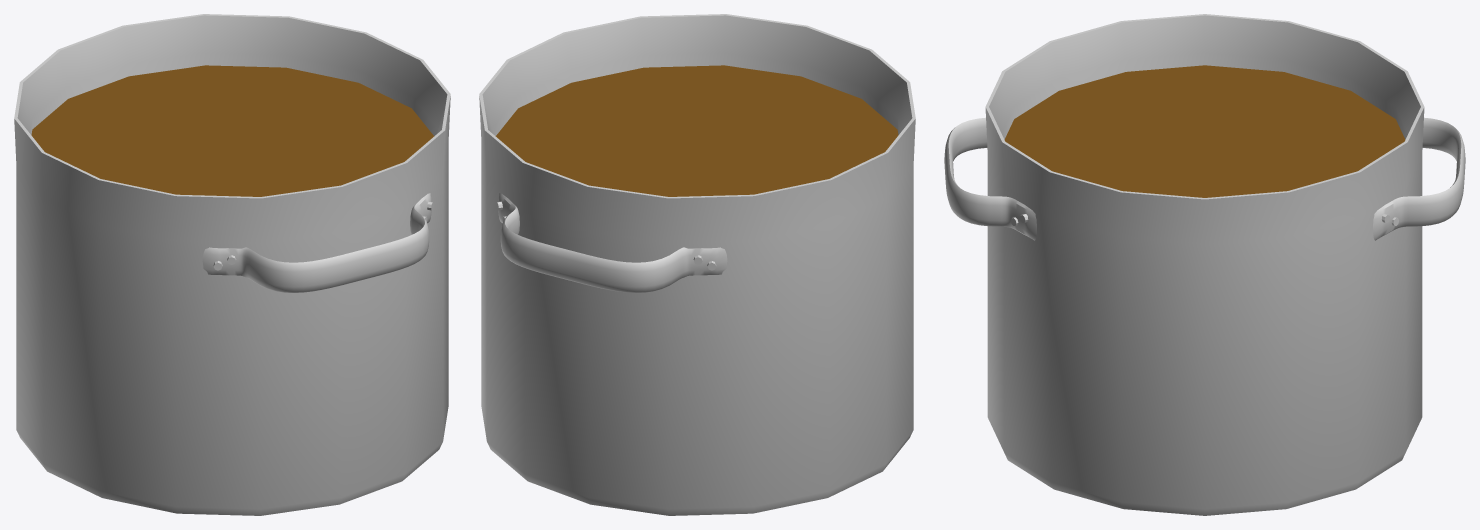
Rendered from Broth.fbx.
3 renders of one model, left to right at view 1: azimuth 30°, elevation 25°; view 2: azimuth 150°, elevation 25°; view 3: azimuth 270°, elevation 25°, orthographic.
Parts seen in each view (by area): view 1: Pot, 1stBroth; view 2: Pot, 1stBroth; view 3: Pot, 1stBroth.
Part boxes in pixels (x1,y1,x2,y2): Pot: (14, 14, 450, 515); 1stBroth: (31, 65, 434, 196); Pot: (479, 14, 915, 515); 1stBroth: (495, 65, 898, 196); Pot: (944, 14, 1465, 515); 1stBroth: (1004, 65, 1405, 197).
Bounding box in the file's own units: 35.85 × 30.2 × 24.48.
